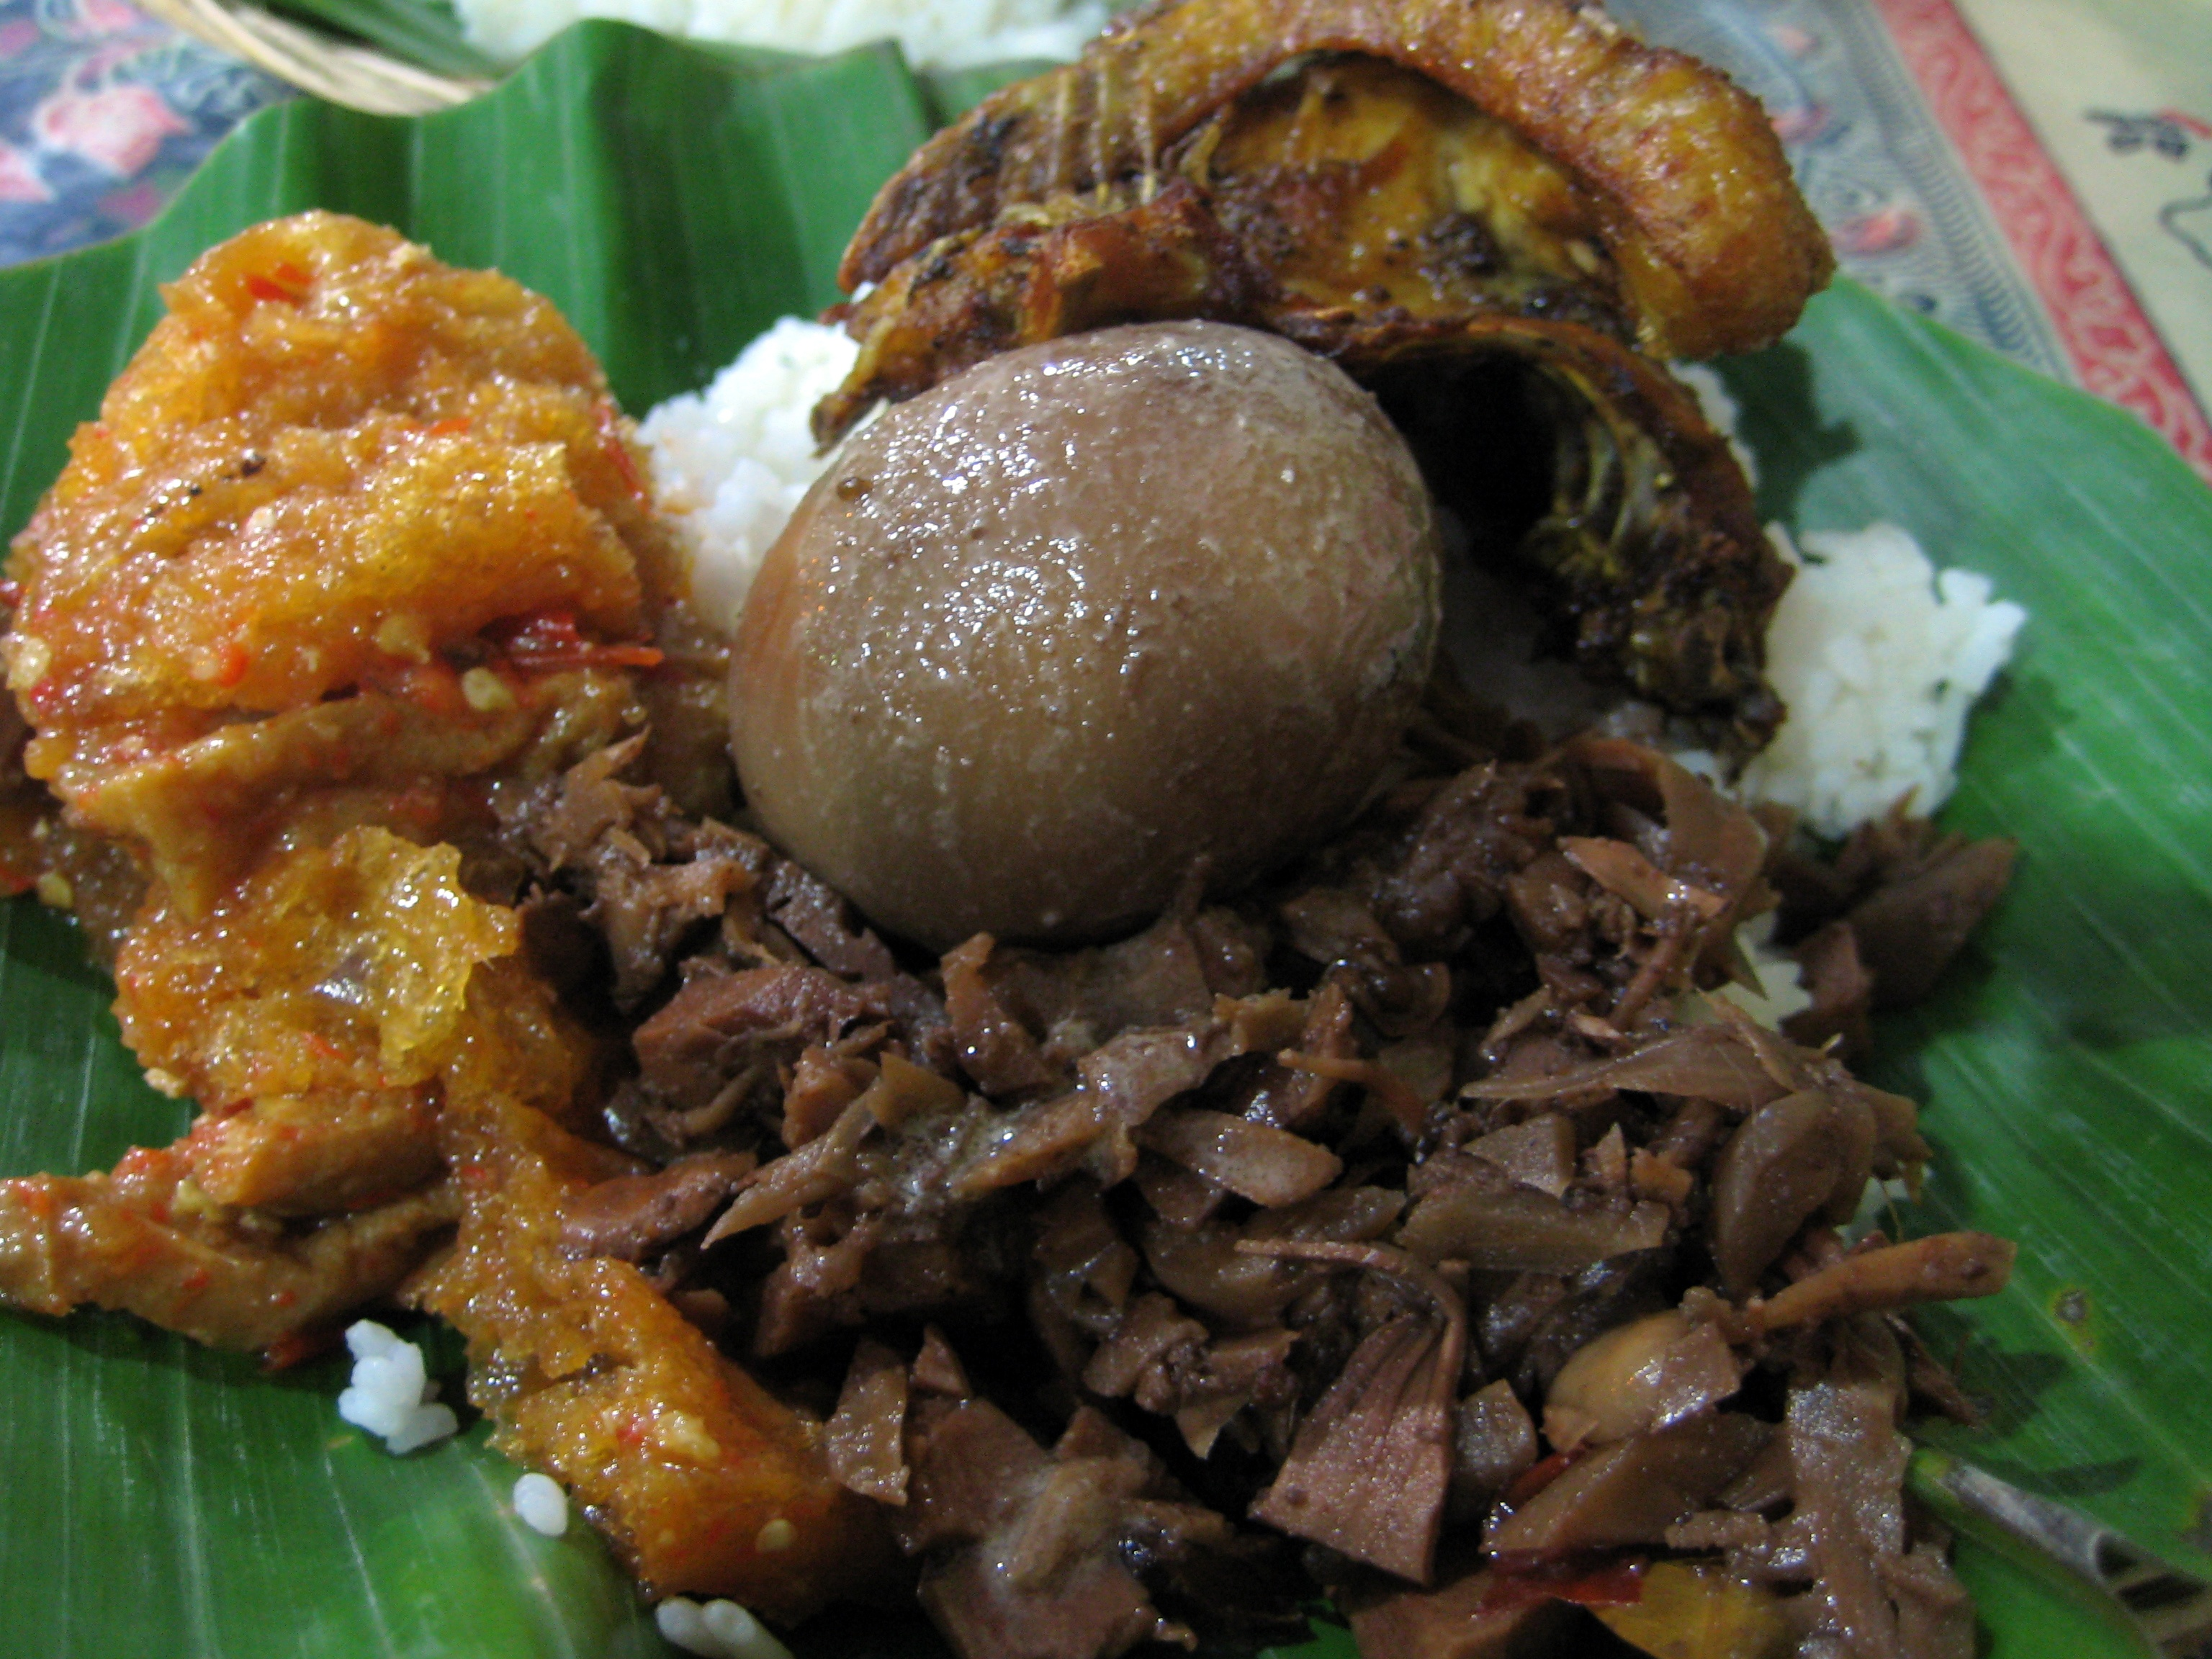gudeg: (47, 124, 1963, 1603)
